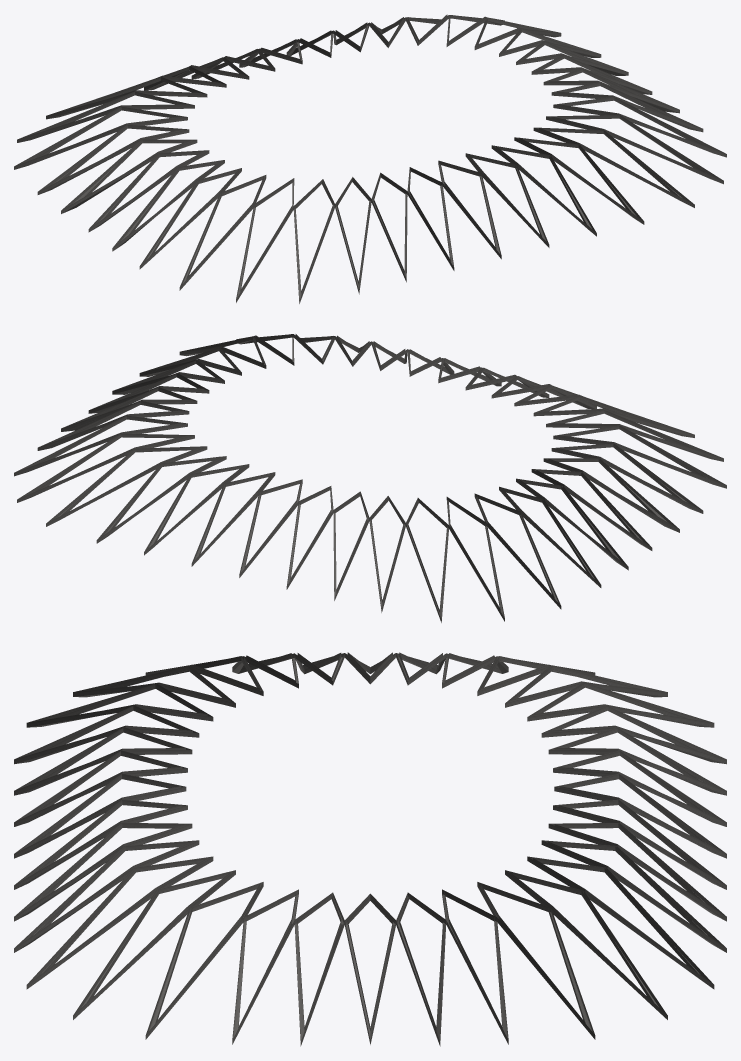
File: ESTADIO_viguetasCubierta.fbx
3 renders of one model, top to bottom at view 1: azimuth 30°, elevation 25°; view 2: azimuth 150°, elevation 25°; view 3: azimuth 270°, elevation 25°, orthographic. The views are drawn at different scales.
Parts seen in each view (by area): view 1: ESTADIO_viguetasCubierta; view 2: ESTADIO_viguetasCubierta; view 3: ESTADIO_viguetasCubierta.
Part boxes in pixels (<box>): ESTADIO_viguetasCubierta: <box>14,14,726,303</box>; ESTADIO_viguetasCubierta: <box>14,334,726,622</box>; ESTADIO_viguetasCubierta: <box>14,652,726,1046</box>.
Bounding box in the file's own units: 20912 × 1888 × 16748.
